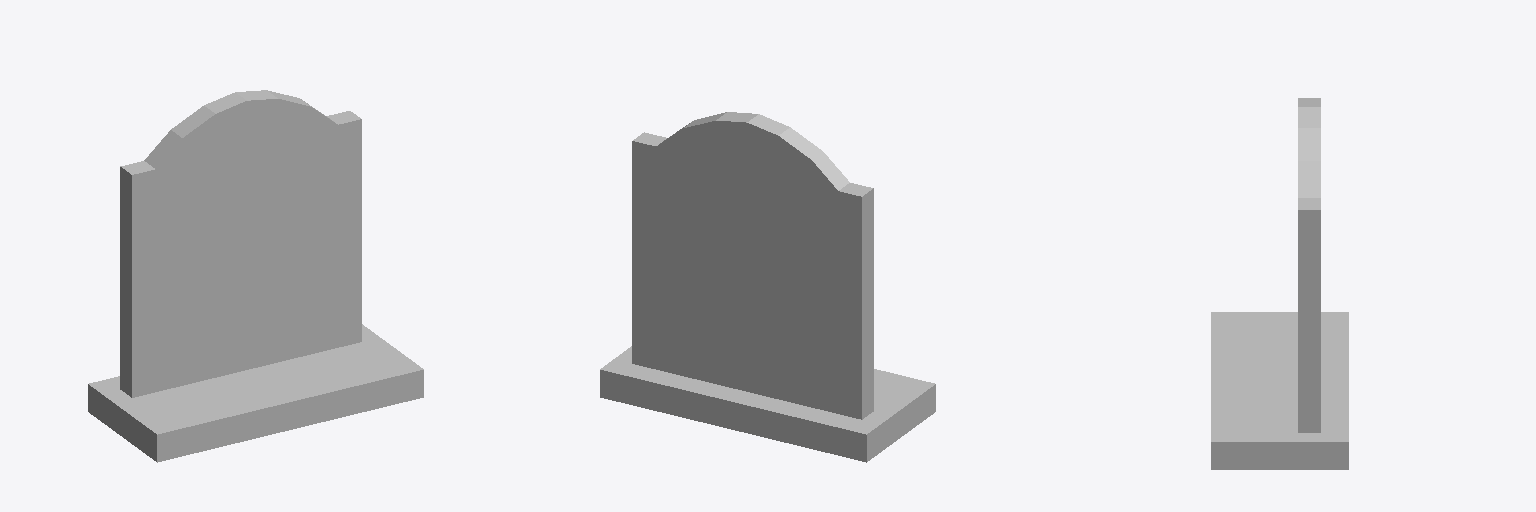
The model's file is headstone_05.obj.
3 views of the same model, side by side, from view 1: azimuth 30°, elevation 25°; view 2: azimuth 150°, elevation 25°; view 3: azimuth 270°, elevation 25° (orthographic).
Parts seen in each view (by area): view 1: headstone_05; view 2: headstone_05; view 3: headstone_05.
Boxes of the visible parts, x1,y1,x2,y2 form: headstone_05: [88, 90, 423, 462]; headstone_05: [600, 112, 935, 462]; headstone_05: [1211, 98, 1348, 469].
Size of the model in its own units: 1 by 1.06 by 0.45.